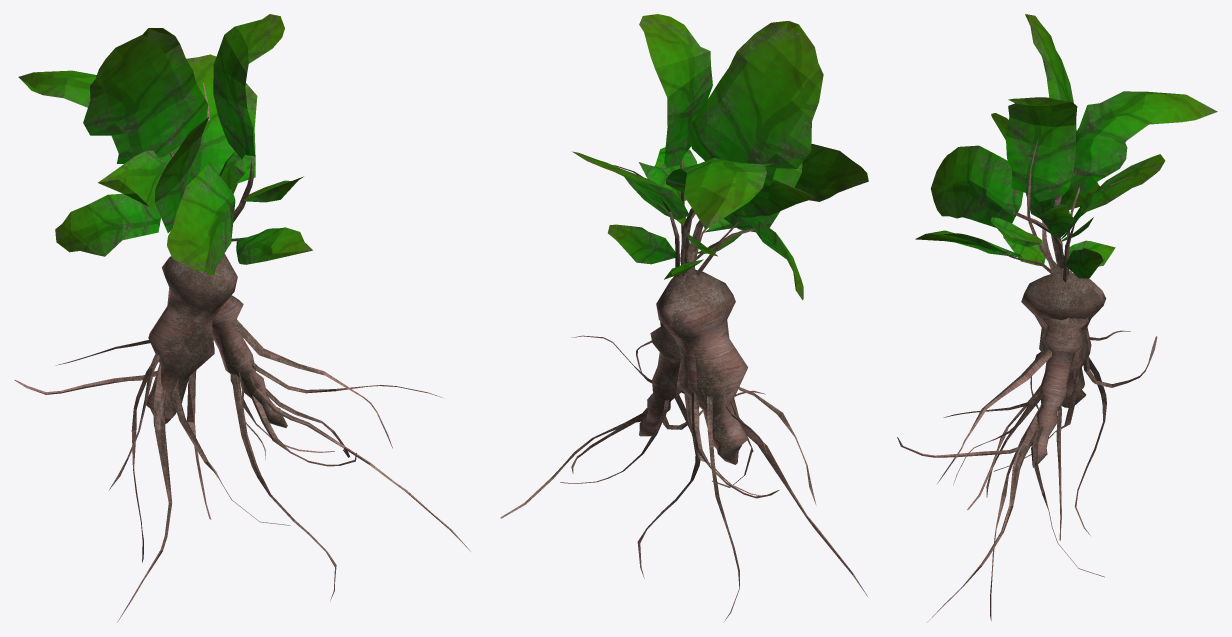
Rendered from mandrake.fbx.
3 views of the same model, side by side, from view 1: azimuth 30°, elevation 25°; view 2: azimuth 150°, elevation 25°; view 3: azimuth 270°, elevation 25° (orthographic). The views are drawn at different scales.
Parts seen in each view (by area): view 1: mandrake; view 2: mandrake; view 3: mandrake.
Part boxes in pixels (x1,y1,x2,y2): mandrake: [14, 14, 470, 622]; mandrake: [500, 14, 868, 622]; mandrake: [897, 14, 1217, 622].
Size of the model in its own units: 106 by 184 by 99.69.
Materials: 1 (1 with a texture image).
